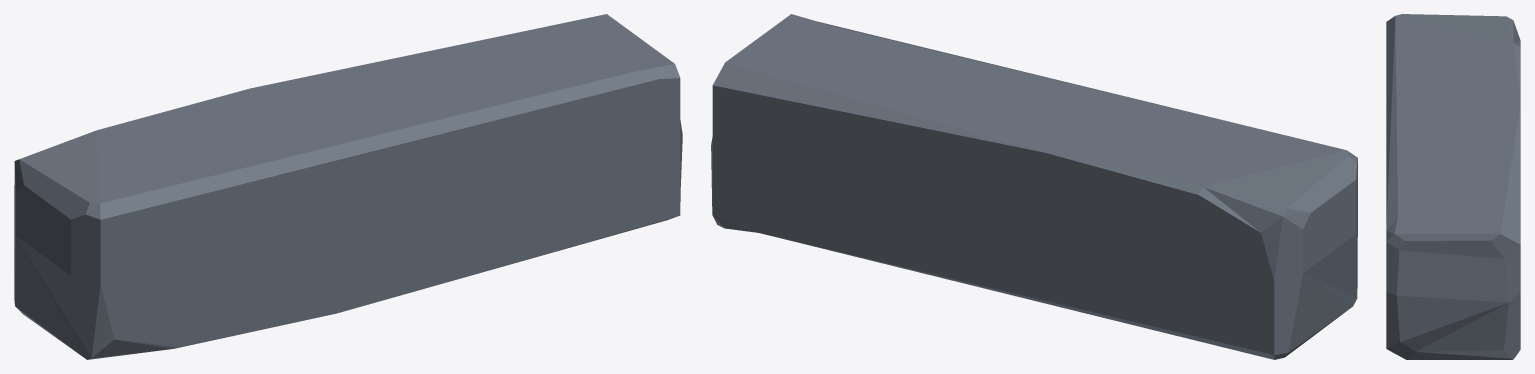
Rendered from Block1.fbx.
3 renders of one model, left to right at view 1: azimuth 30°, elevation 25°; view 2: azimuth 150°, elevation 25°; view 3: azimuth 270°, elevation 25°, orthographic. The views are drawn at different scales.
Visible parts, largest first — view 1: Block1; view 2: Block1; view 3: Block1.
Part boxes in pixels (<box>): Block1: <box>14,14,682,359</box>; Block1: <box>711,14,1357,359</box>; Block1: <box>1386,14,1520,359</box>.
Bounding box in the file's own units: 303 × 77.73 × 75.12.
